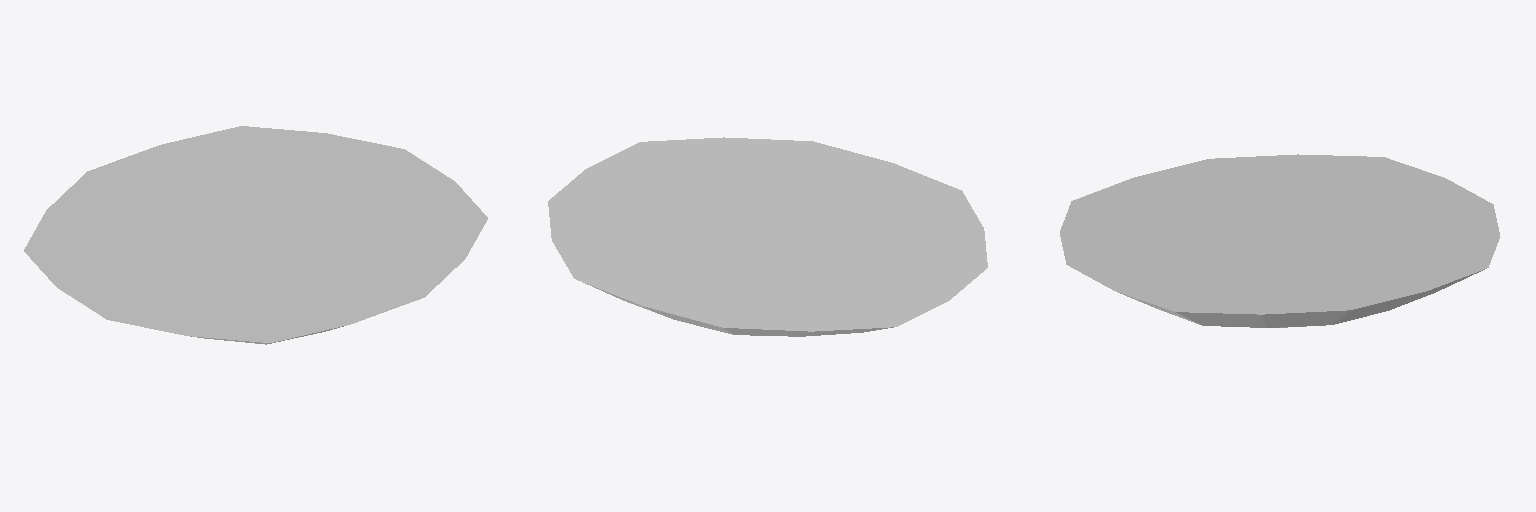
Rendered from slice_14.obj.
The picture shows the model from 3 angles: view 1: azimuth 30°, elevation 25°; view 2: azimuth 150°, elevation 25°; view 3: azimuth 270°, elevation 25°; orthographic projection.
Visible parts, largest first — view 1: Mushroom.015_Cube.024; view 2: Mushroom.015_Cube.024; view 3: Mushroom.015_Cube.024.
Boxes of the visible parts, x1,y1,x2,y2 form: Mushroom.015_Cube.024: [24, 126, 487, 344]; Mushroom.015_Cube.024: [548, 137, 987, 336]; Mushroom.015_Cube.024: [1060, 154, 1499, 327].
Bounding box in the file's own units: 0.7485 × 0.1341 × 0.75.